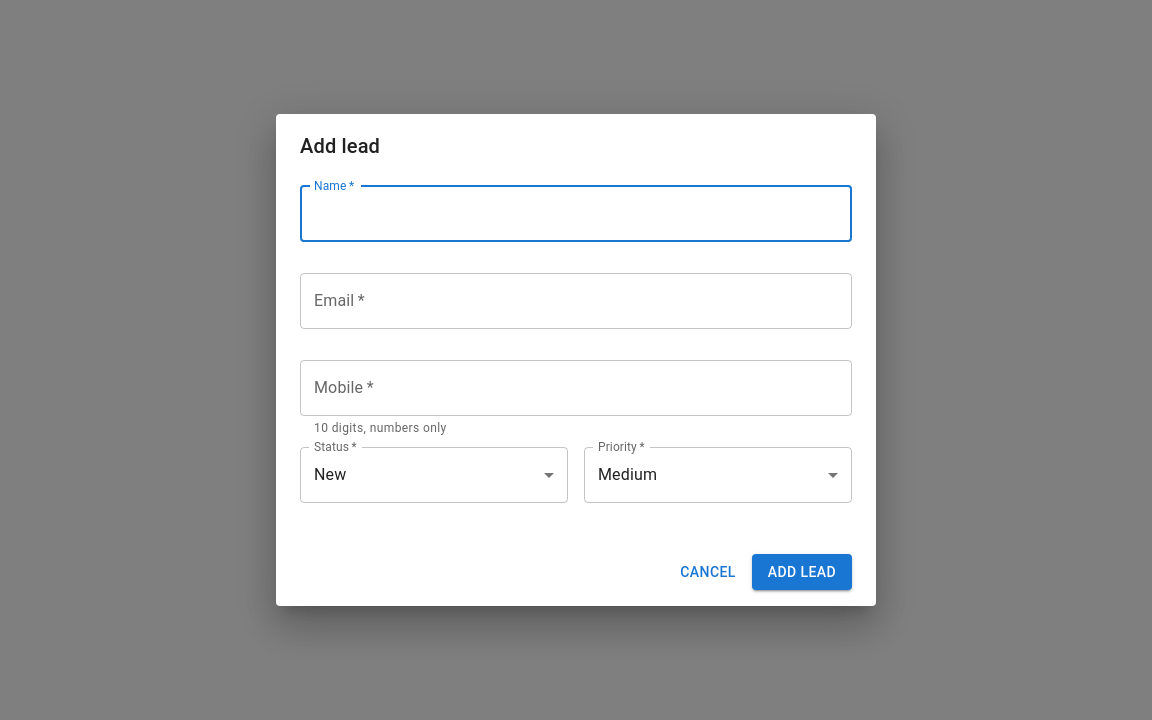
it: LeadFormDialog › rejects invalid mobile
Type "Asha Rao" into the field labelled "Name *". click: (576, 214)
box: [300,186,852,242]
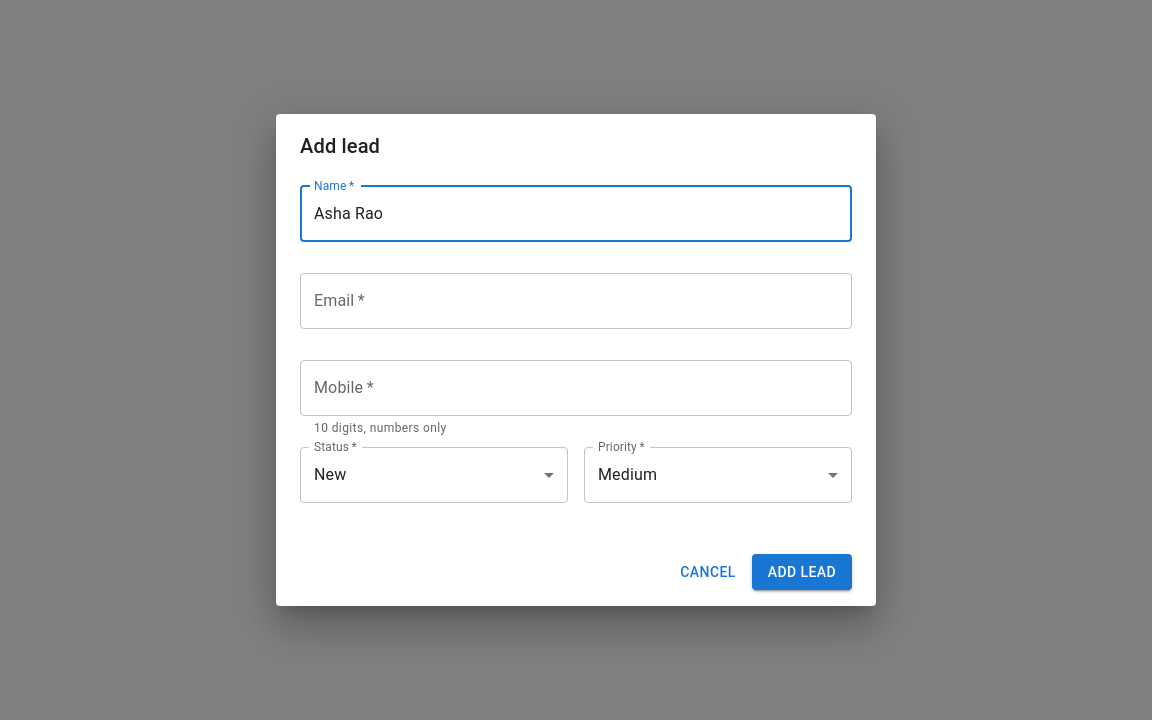
Type "asha@acme.com" into the field labelled "Email *". click: (576, 301)
box: [300,273,852,329]
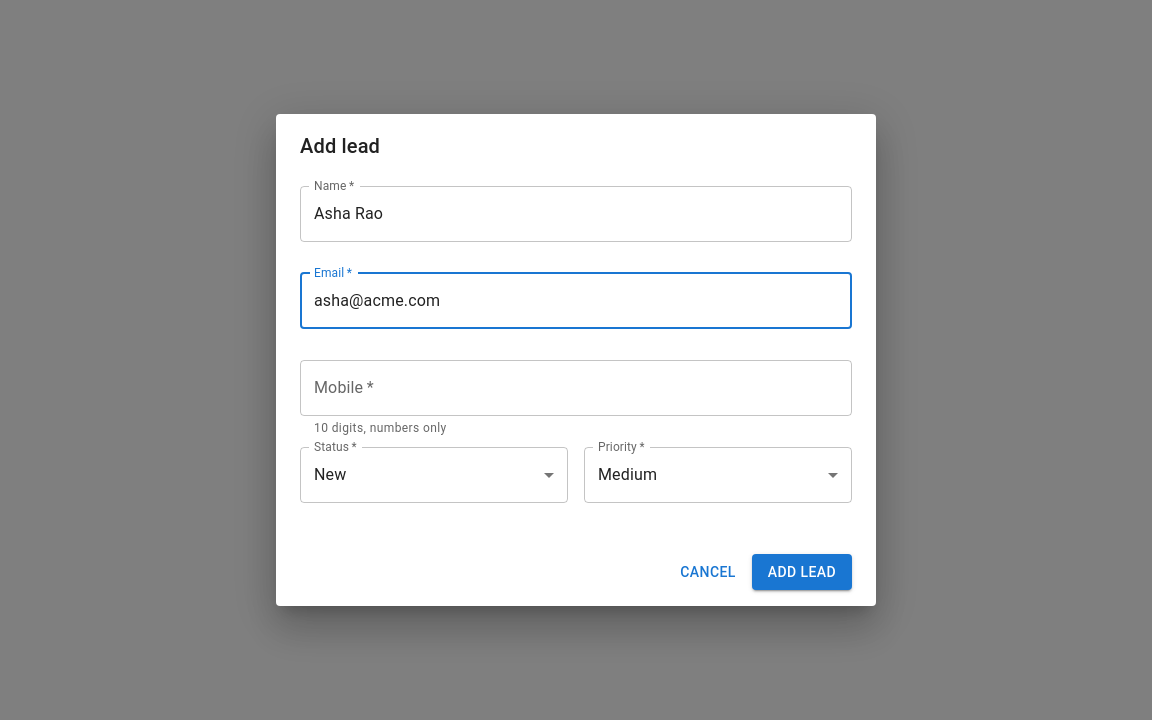
Type "9876543210" into the field labelled "Mobile *". click: (576, 388)
box: [300,360,852,416]
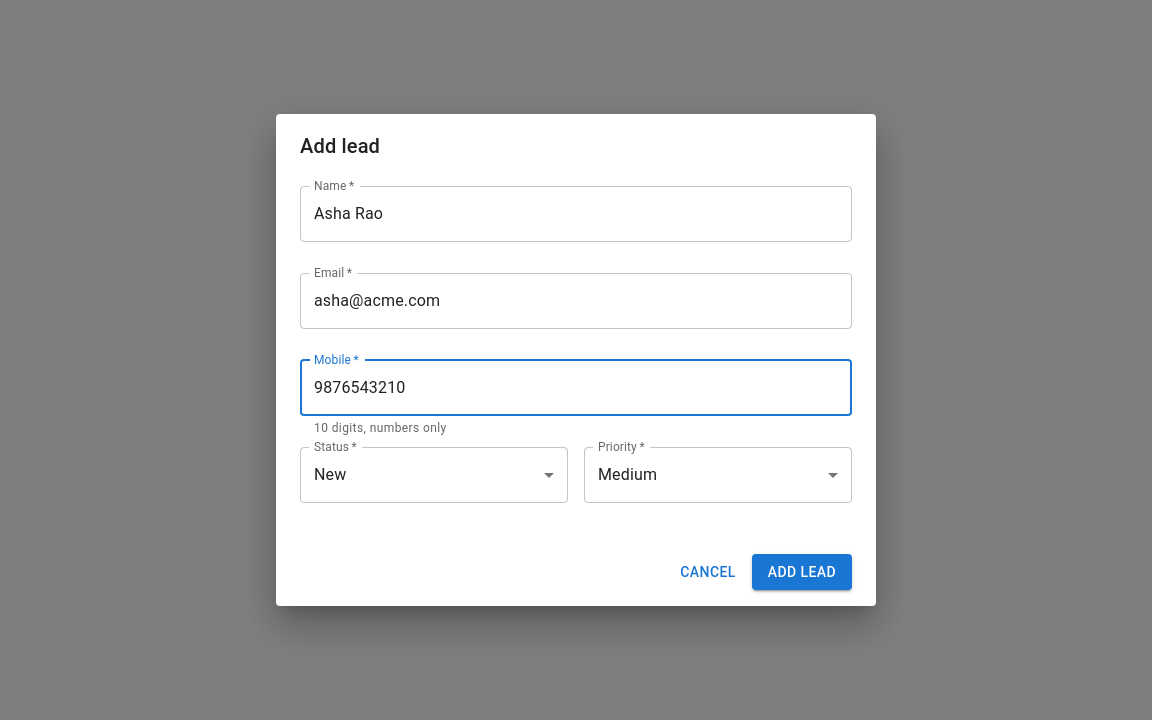
Replace the text in the field labelled "Mobile *" with "98765abc10". click: (576, 388)
box: [300,360,852,416]
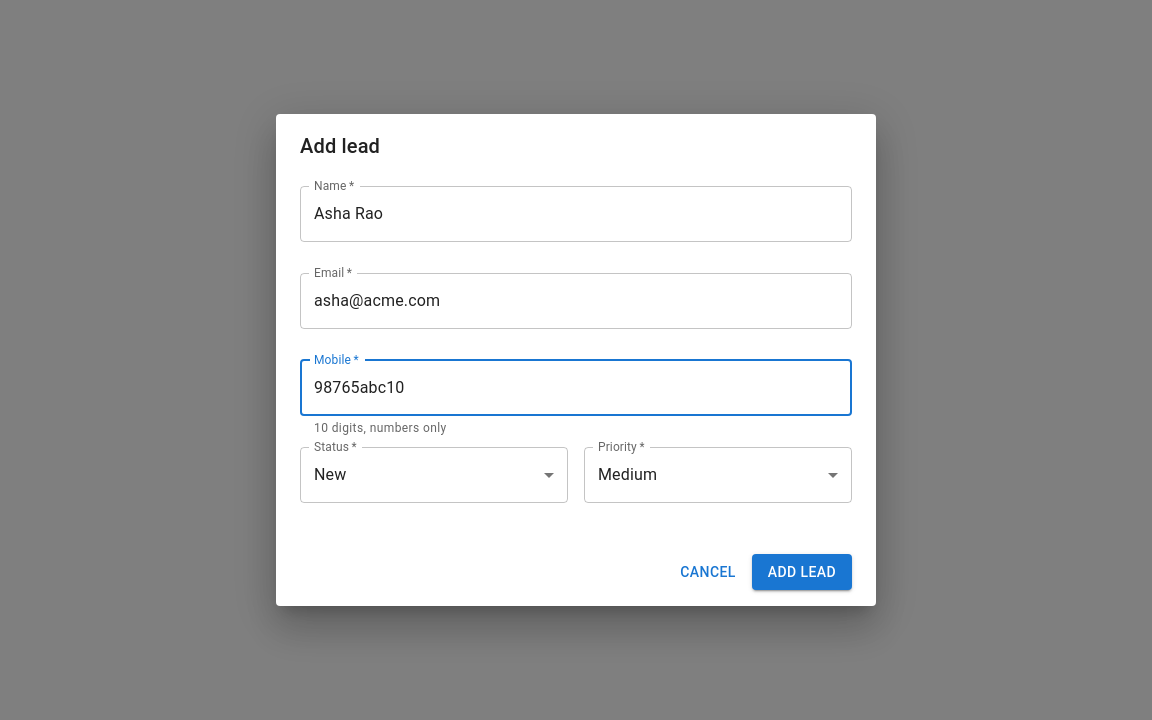
Click the button "Add lead". click: (802, 572)
box: [752,554,852,590]
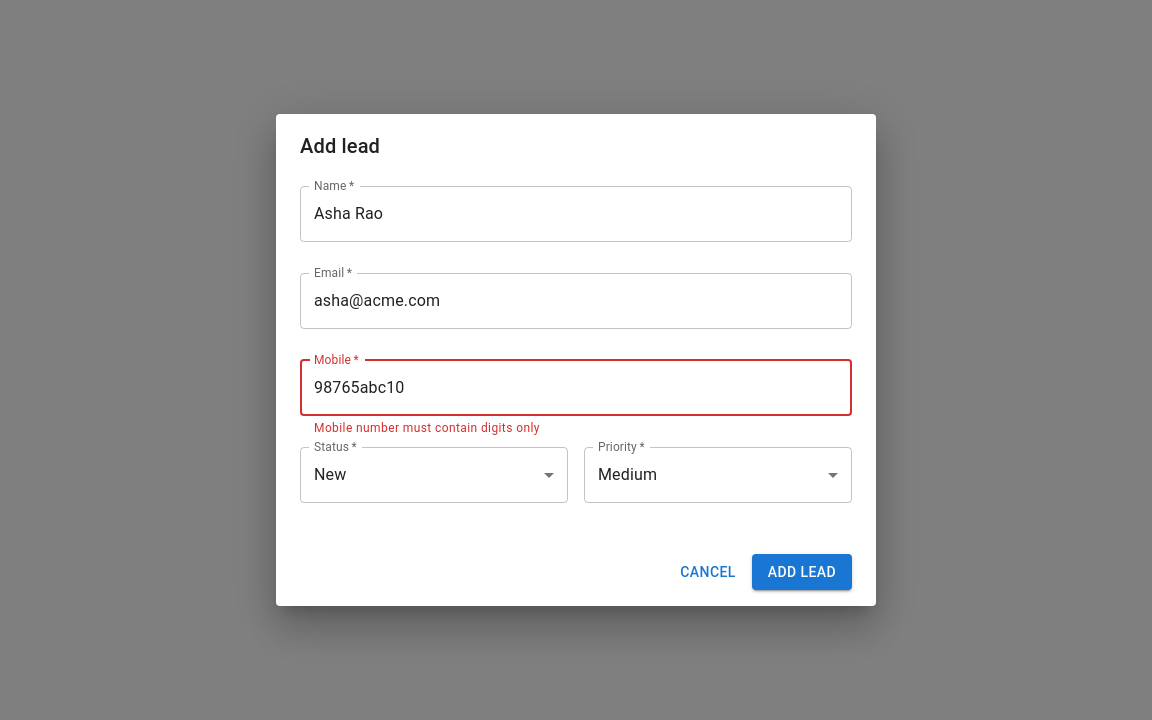
Check: the text "Mobile number must contain digits only" is shown, box [314,421,540,435]
